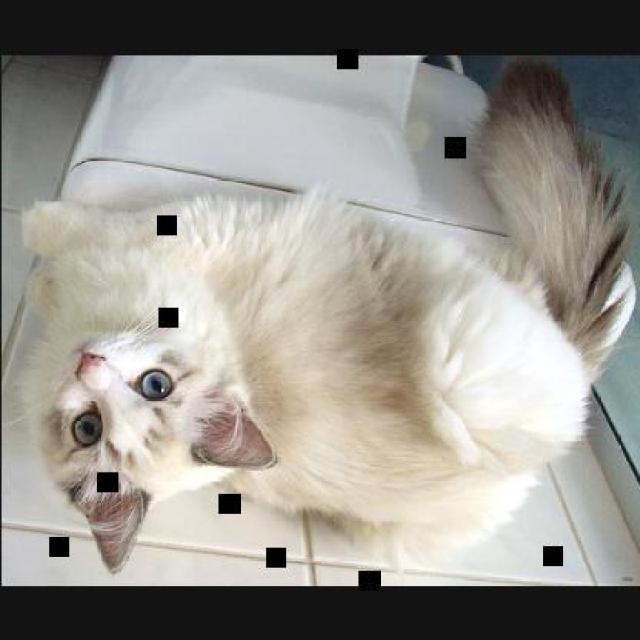unauthorized: (9, 57, 637, 572)
